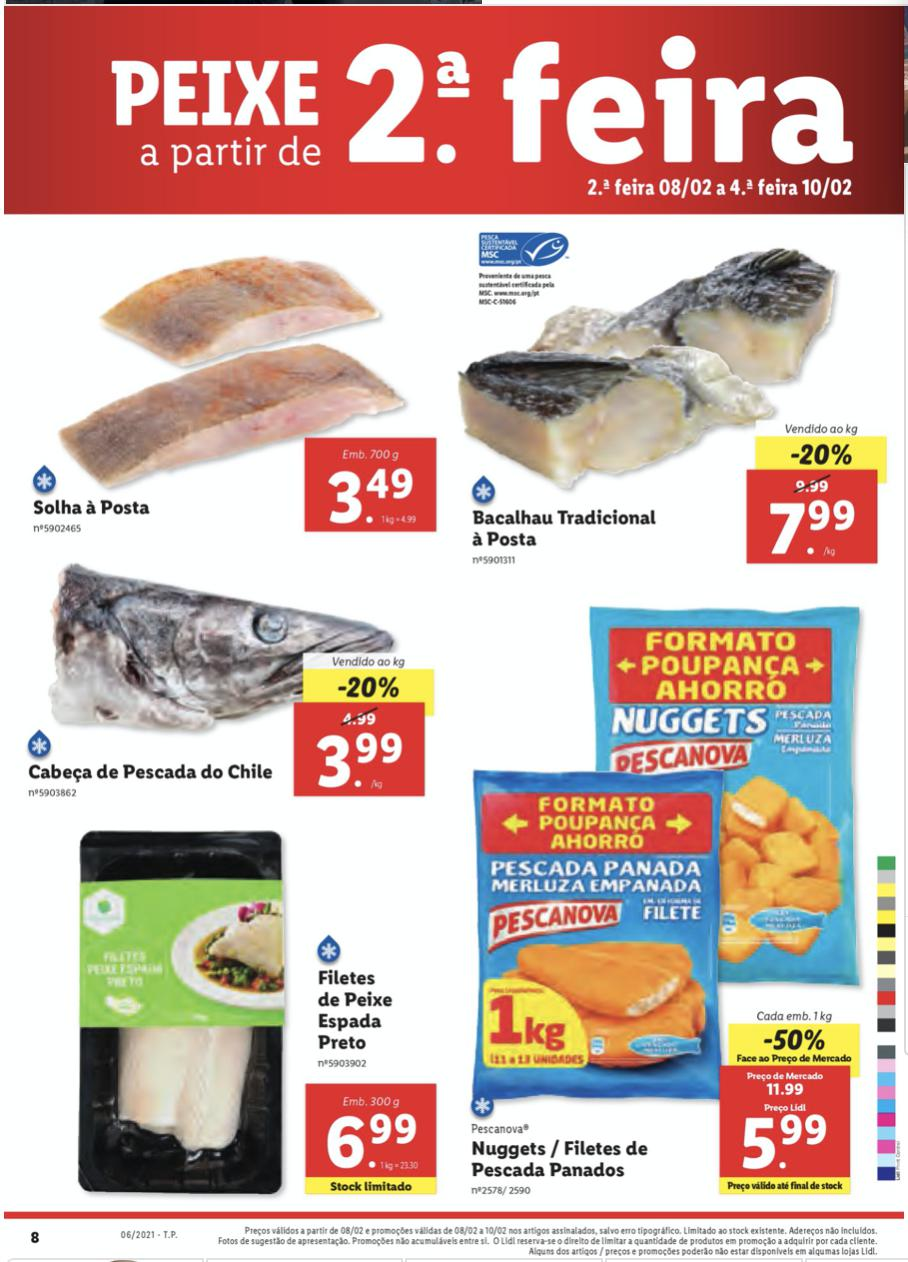name: (310, 964, 400, 1058), (466, 1135, 655, 1178), (469, 508, 660, 550), (32, 760, 283, 783), (27, 490, 157, 520)
price: (724, 1099, 852, 1180), (318, 464, 430, 530), (322, 1110, 432, 1174), (310, 728, 416, 794), (757, 496, 869, 557)
product: (458, 569, 885, 1208), (25, 822, 444, 1208), (449, 222, 888, 552), (14, 225, 444, 544), (25, 564, 447, 822)
promotion: (757, 1021, 838, 1057), (791, 439, 857, 472), (333, 672, 404, 702)
